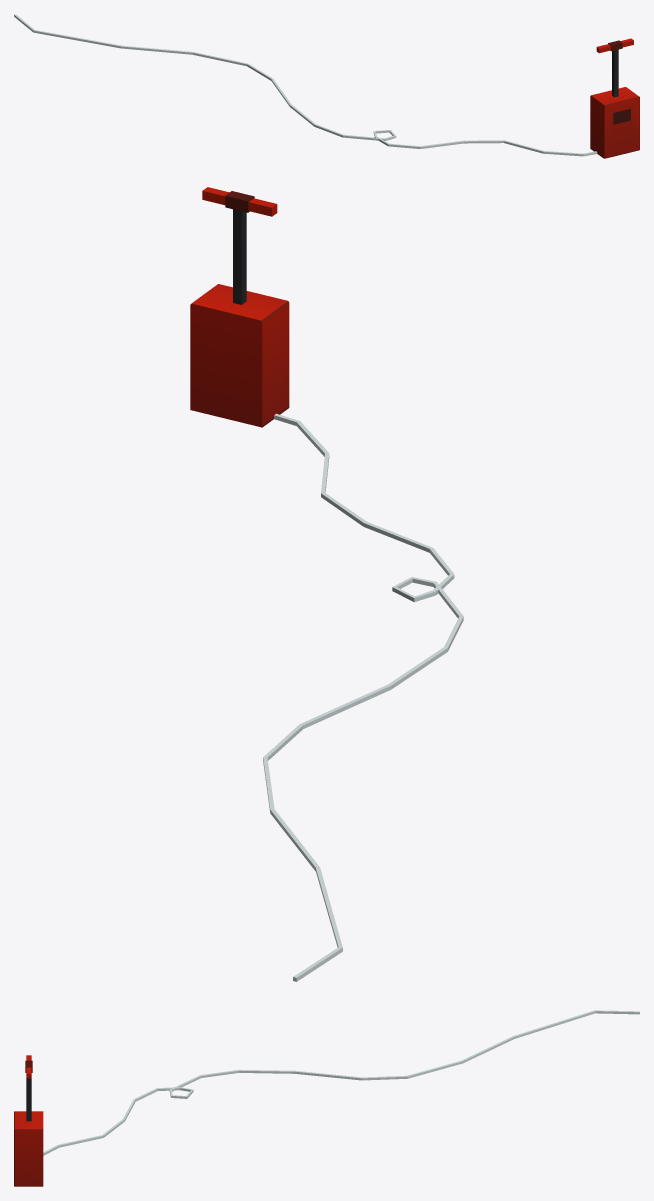
File: TNT.fbx
3 renders of one model, top to bottom at view 1: azimuth 30°, elevation 25°; view 2: azimuth 150°, elevation 25°; view 3: azimuth 270°, elevation 25°, orthographic. The views are drawn at different scales.
Visible parts, largest first — view 1: TNT; view 2: TNT; view 3: TNT.
Boxes of the visible parts, x1,y1,x2,y2 form: TNT: (14, 14, 639, 158); TNT: (190, 187, 463, 981); TNT: (14, 1010, 639, 1186).
Size of the model in its own units: 3611 by 1098 by 5485.
